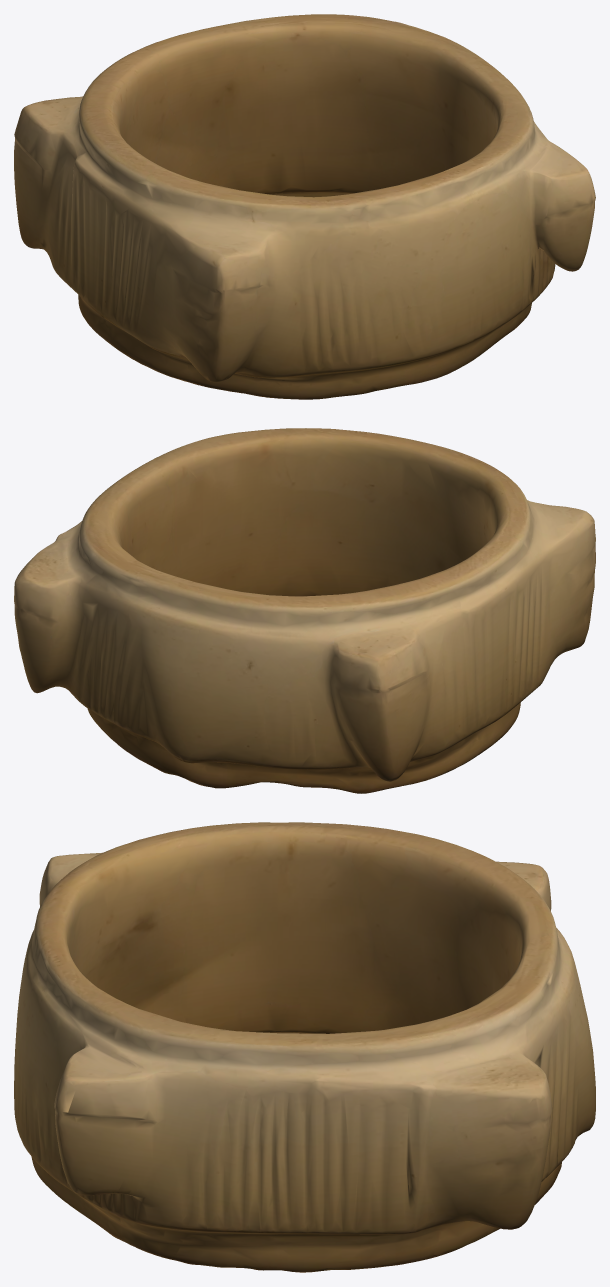
File: fuhao-cicada-roaming.glb
3 renders of one model, top to bottom at view 1: azimuth 30°, elevation 25°; view 2: azimuth 150°, elevation 25°; view 3: azimuth 270°, elevation 25°, orthographic. The views are drawn at different scales.
Visible parts, largest first — view 1: node_0; view 2: node_0; view 3: node_0.
Boxes of the visible parts, left/top/right/bottom form: node_0: left=14, top=14, right=595, bottom=399; node_0: left=14, top=428, right=595, bottom=793; node_0: left=14, top=822, right=595, bottom=1272.
Bounding box in the file's own units: 0.8989 × 0.4165 × 0.9302.
Materials: 1 (1 with a texture image).
